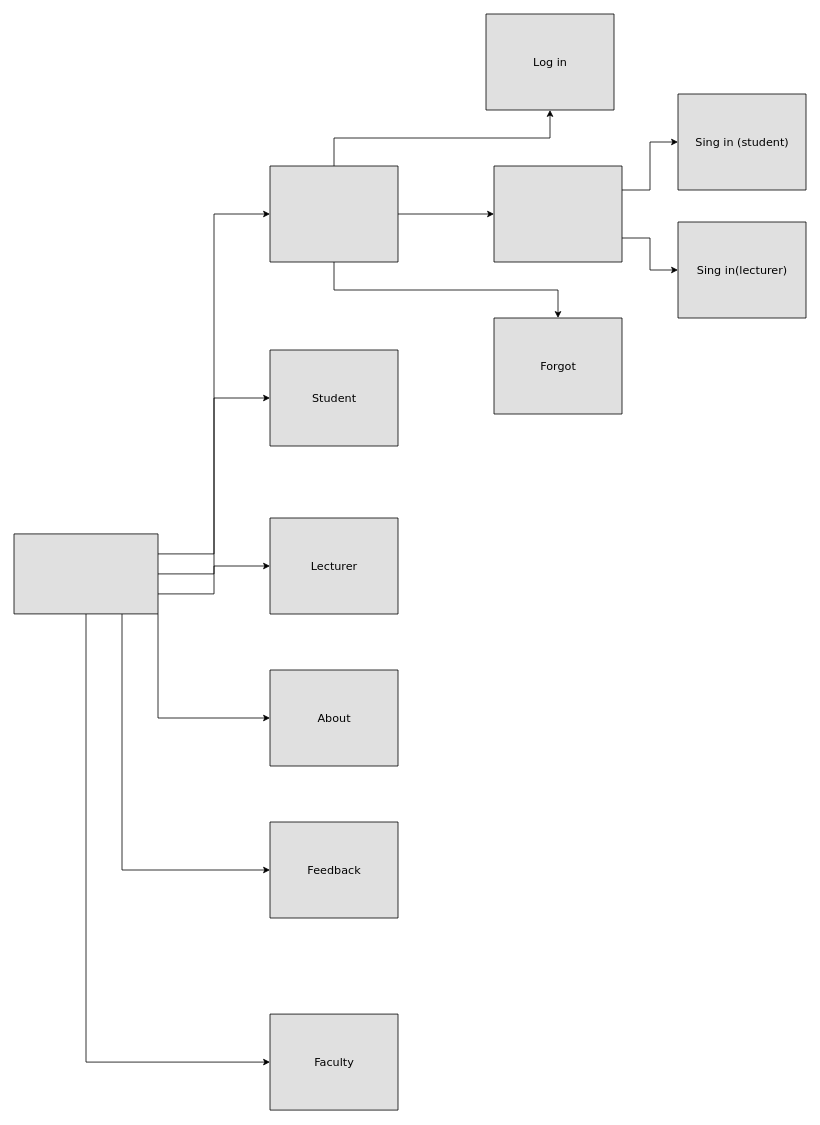
Some shapes in this 820 by 1125 pixel diagram are drawn without their labels. Here are the shapes that lost their labels. From the top down, the centre of each, then its label:
At point (333, 213): "Auth".
At point (557, 213): "Sing in".
At point (85, 573): "Home".
